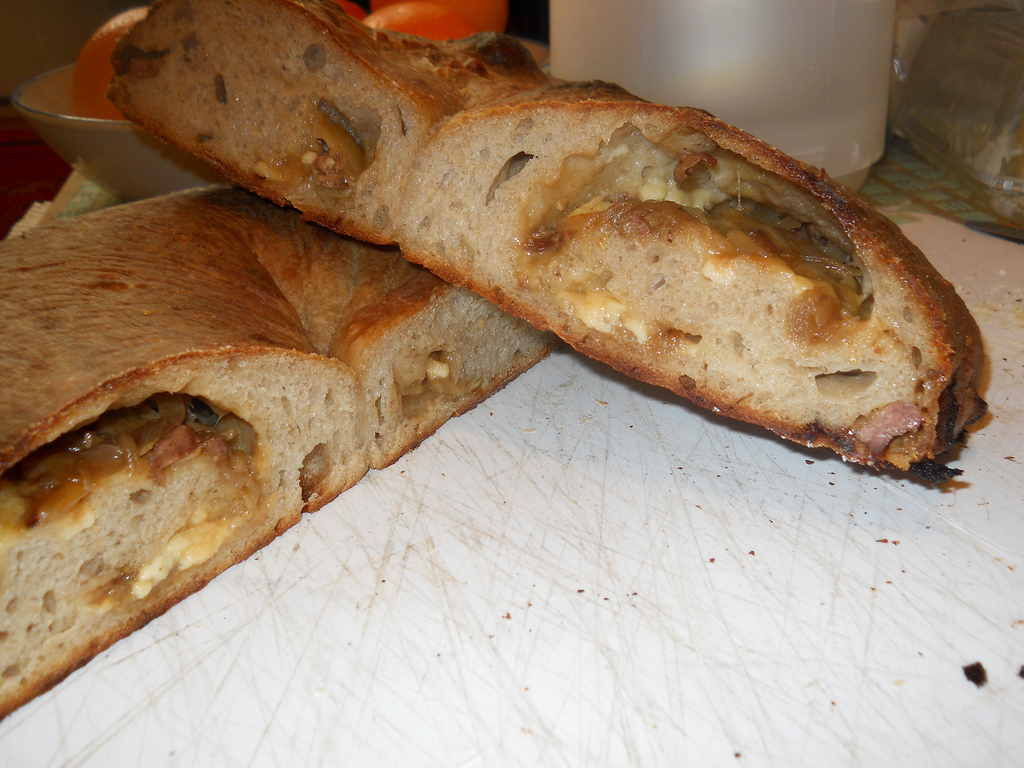slice of bread: (122, 5, 976, 450), (13, 200, 547, 715)
